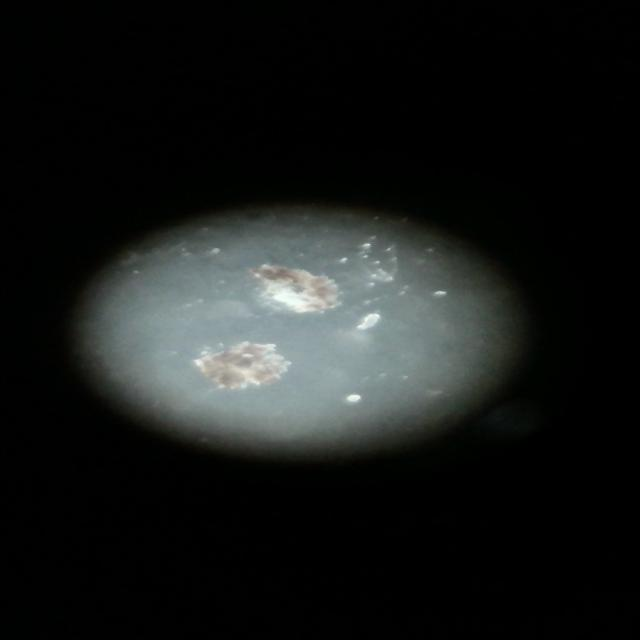alexandrium: (187, 340, 300, 399), (245, 260, 347, 314)
